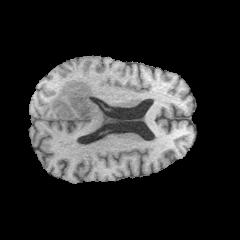glioma: (50, 78, 107, 135)
